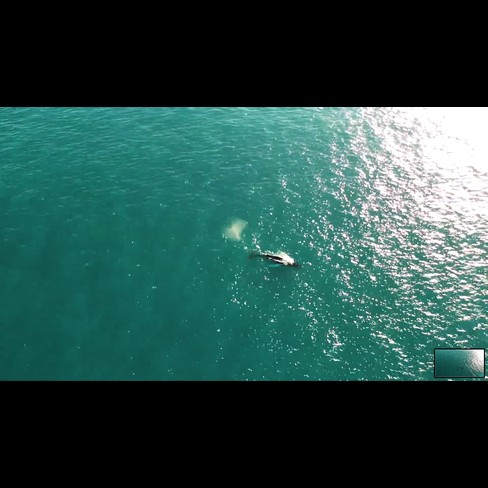hump: (235, 235, 304, 273)
